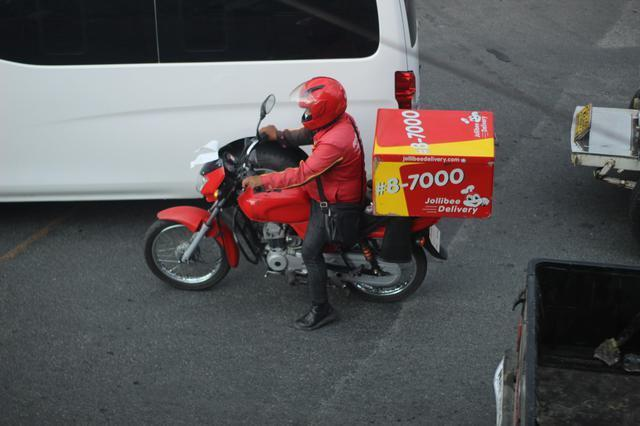helmet: (297, 76, 348, 131)
motorcycle: (142, 74, 445, 301)
